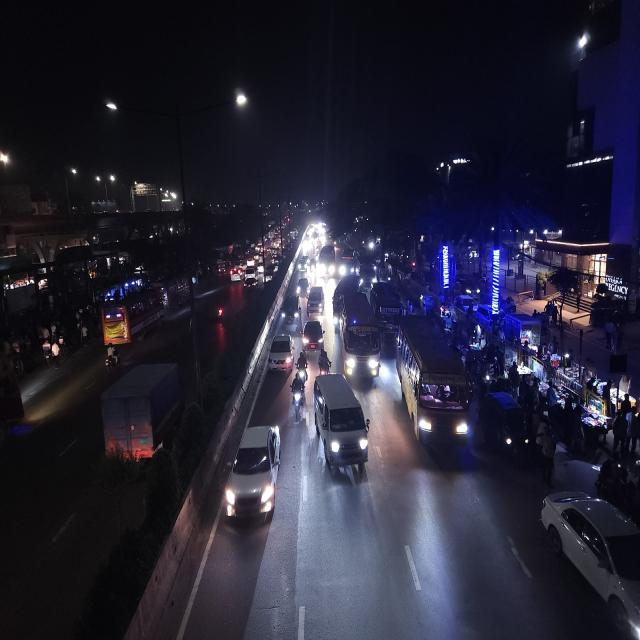bus: (394, 318, 474, 462), (332, 280, 382, 383), (102, 286, 166, 344), (573, 0, 624, 61), (372, 282, 403, 340), (318, 243, 336, 280), (339, 247, 357, 277)
car: (536, 486, 640, 640), (312, 371, 372, 475), (224, 420, 282, 527), (268, 330, 294, 375), (279, 292, 301, 331), (303, 317, 325, 352), (306, 282, 325, 319), (297, 274, 309, 300), (229, 266, 244, 284), (243, 277, 259, 293)
cng: (484, 387, 532, 466)
motorcycle: (289, 369, 307, 422), (102, 343, 123, 373), (317, 346, 332, 375), (297, 348, 309, 384), (214, 297, 228, 325)
pedestrian: (536, 426, 560, 484)
truck: (95, 356, 186, 475)
